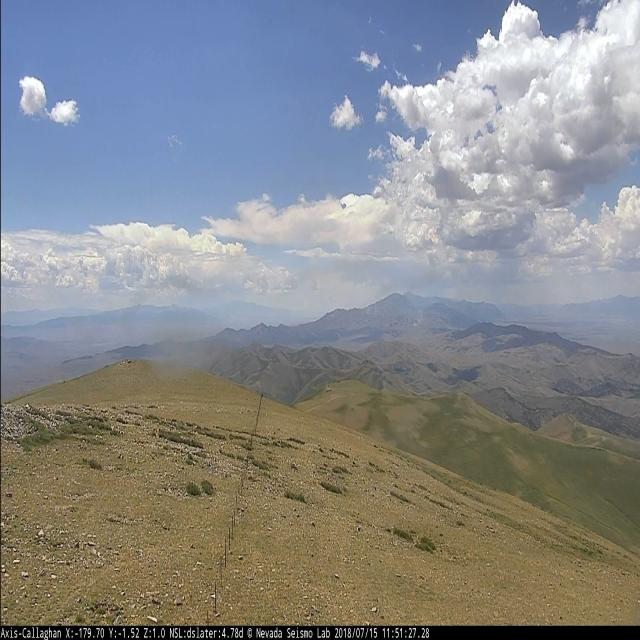smoke: (414, 308, 424, 328)
